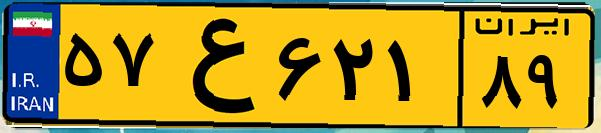1: (385, 28, 445, 110)
2: (330, 28, 385, 110)
5: (57, 26, 110, 100)
6: (270, 28, 330, 110)
7: (110, 28, 158, 98)
8: (475, 38, 525, 113)
9: (525, 38, 570, 115)
ع: (158, 12, 270, 120)
